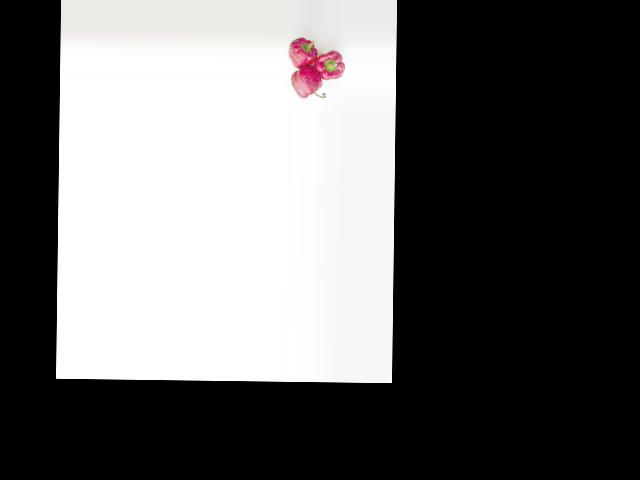bell_pepper: (289, 68, 327, 105)
